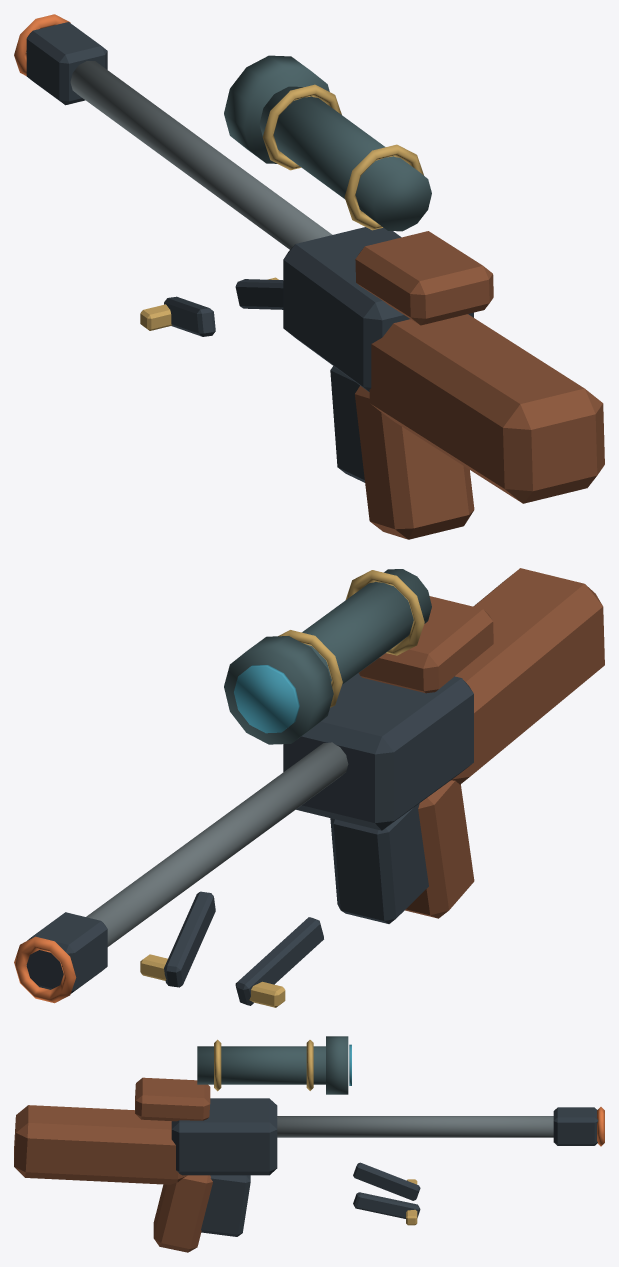
File: SniperRifle.glb
3 renders of one model, top to bottom at view 1: azimuth 30°, elevation 25°; view 2: azimuth 150°, elevation 25°; view 3: azimuth 270°, elevation 25°, orthographic. The views are drawn at different scales.
Visible parts, largest first — view 1: Long stock, Receiver, Barrel, Grip, Scope body, Cheek rest, Scope objective, Muzzle brake, Magazine, Scope ring.001, Scope ring, Bipod left (+2 smaller); view 2: Receiver, Long stock, Barrel, Magazine, Scope body, Cheek rest, Grip, Scope objective, Muzzle brake, Scope lens, Bipod left, Bipod right (+4 smaller); view 3: Long stock, Receiver, Barrel, Scope body, Grip, Cheek rest, Magazine, Muzzle brake, Scope objective, Bipod left, Bipod right, Scope ring (+1 smaller).
Boxes of the visible parts, x1,y1,x2,y2 form: Long stock: (369, 314, 604, 503); Receiver: (283, 227, 473, 391); Barrel: (70, 61, 332, 249); Grip: (355, 385, 474, 539); Scope body: (259, 86, 431, 231); Cheek rest: (355, 231, 493, 325); Scope objective: (224, 55, 329, 163); Muzzle brake: (26, 22, 107, 105); Magazine: (330, 366, 364, 482); Scope ring.001: (262, 84, 341, 170); Scope ring: (344, 144, 423, 230); Bipod left: (164, 296, 215, 336); Receiver: (283, 673, 473, 830); Long stock: (451, 568, 604, 784); Barrel: (86, 742, 348, 946); Magazine: (330, 803, 428, 923); Scope body: (302, 569, 431, 684); Cheek rest: (358, 596, 493, 693); Grip: (405, 780, 474, 918); Scope objective: (224, 636, 333, 744); Muzzle brake: (26, 912, 107, 993); Scope lens: (234, 665, 299, 733); Bipod left: (235, 917, 323, 1005); Bipod right: (164, 891, 215, 987); Long stock: (14, 1105, 187, 1184); Receiver: (171, 1098, 277, 1175); Barrel: (277, 1116, 553, 1137); Scope body: (197, 1046, 325, 1084); Grip: (153, 1175, 212, 1252); Cheek rest: (135, 1077, 210, 1121); Magazine: (201, 1175, 250, 1236); Muzzle brake: (553, 1107, 598, 1145); Scope objective: (326, 1036, 348, 1094); Bipod left: (353, 1162, 420, 1200); Bipod right: (353, 1192, 420, 1218); Scope ring: (214, 1039, 221, 1091).
Bounding box in the file's own units: 0.4 × 1.01 × 2.62.
